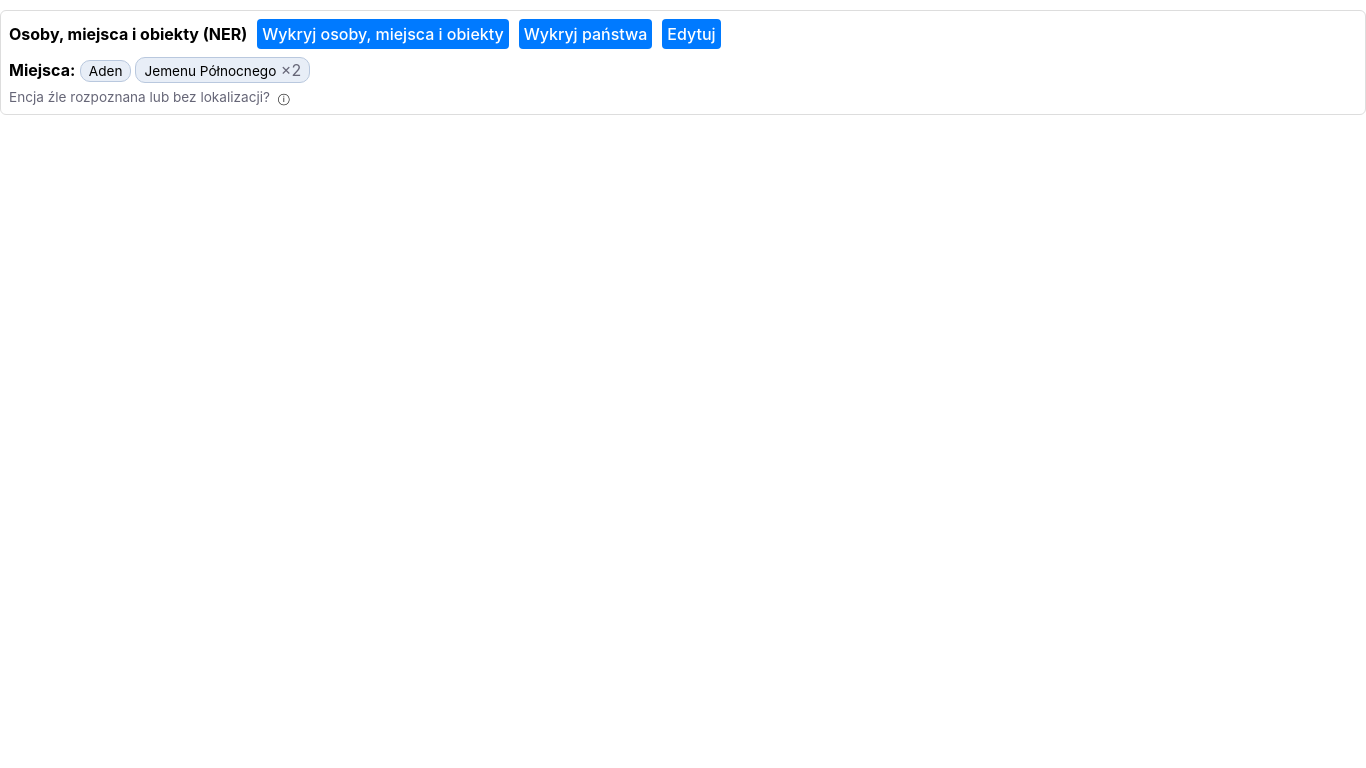
Test case: changes a place into an organization from the menu
The width and height of the screenshot is (1366, 768).
Step 1. Click the button "Jemenu Północnego" → coordinates (210, 71), box [144, 63, 276, 79]
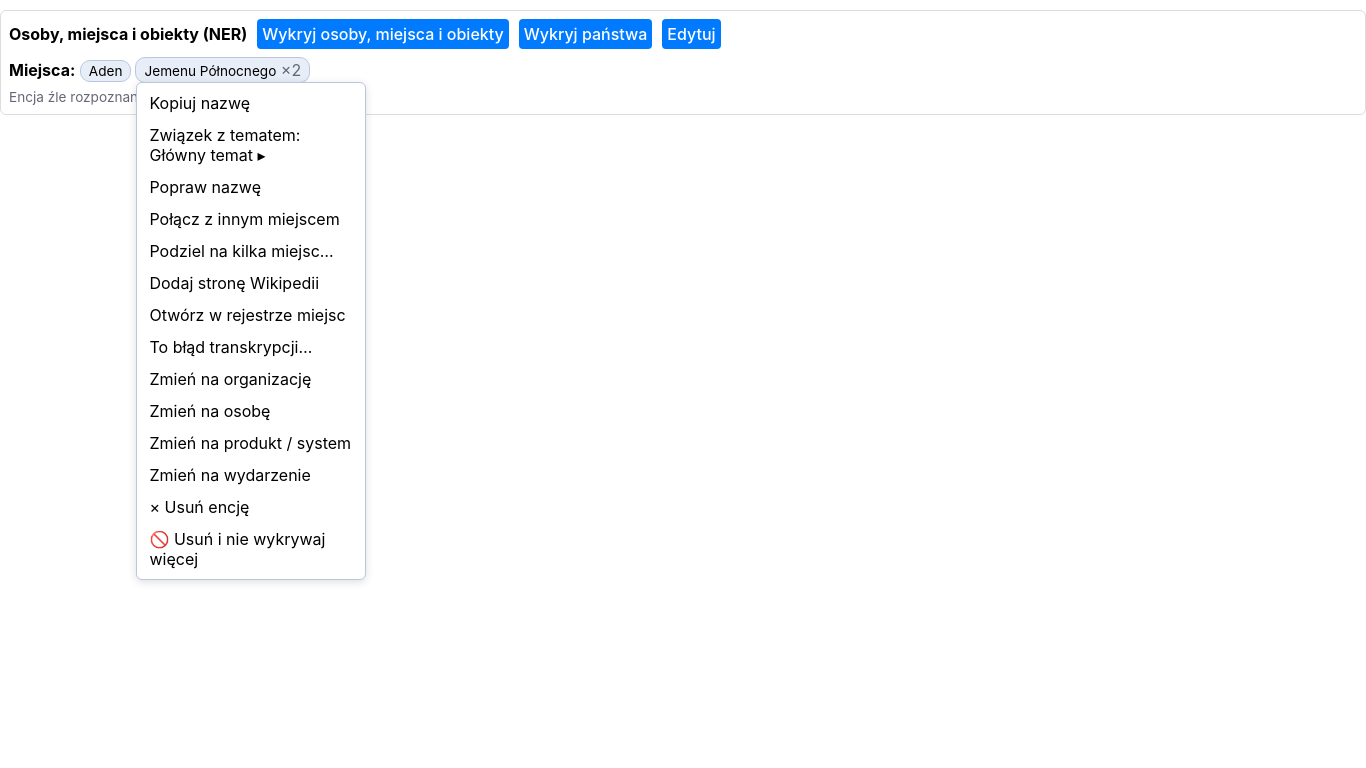
Step 2. Click the menu item "Zmień na organizację" → coordinates (252, 379), box [142, 363, 362, 395]
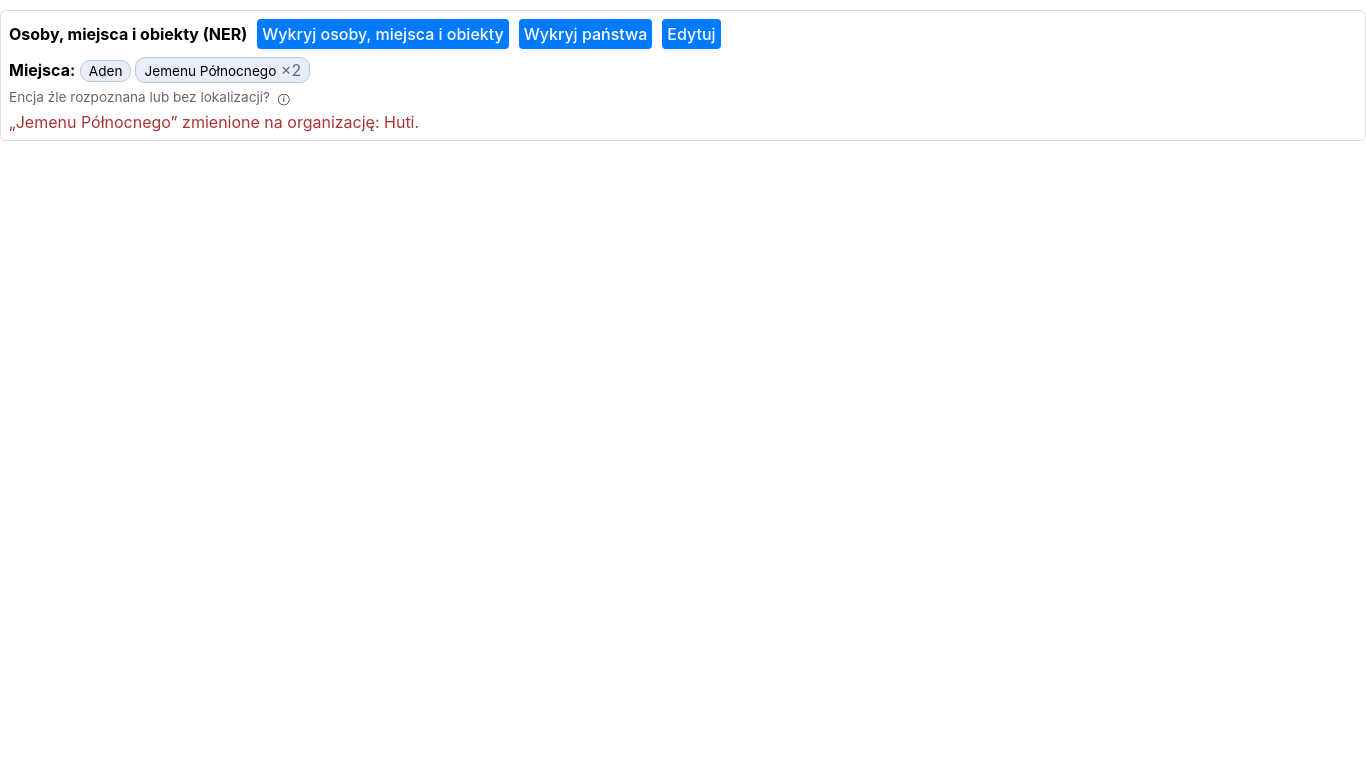
Check: the text "„Jemenu Północnego” zmienione na organizację: Huti." is shown, box [9, 112, 419, 132]
